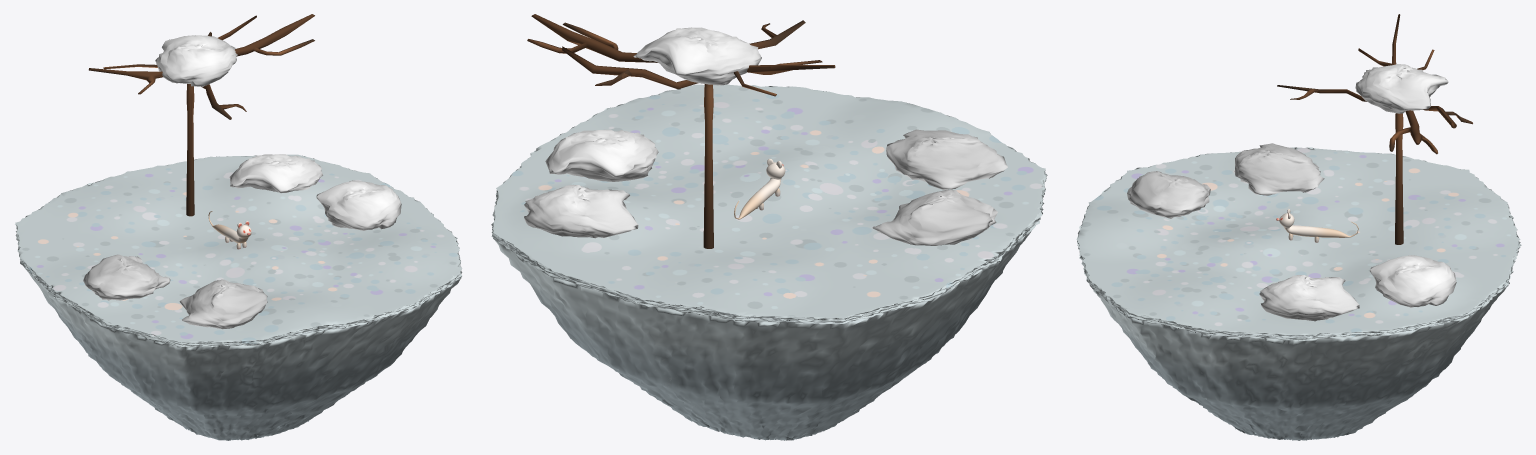
File: Small_Sky_Island_2.fbx
3 renders of one model, left to right at view 1: azimuth 30°, elevation 25°; view 2: azimuth 150°, elevation 25°; view 3: azimuth 270°, elevation 25°, orthographic. The views are drawn at different scales.
Parts seen in each view (by area): view 1: Cube, Sphere.001, Sphere, Cylinder.002, Sphere.002, Sphere.004, Sphere.003, Cylinder; view 2: Cube, Cylinder.002, Sphere.002, Sphere, Sphere.004, Sphere.001, Sphere.003, Cylinder; view 3: Cube, Sphere.003, Sphere.001, Sphere.004, Sphere, Sphere.002, Cylinder.002, Cylinder.
Boxes of the visible parts, <box> form: Cube: <box>15,154,462,440</box>; Sphere.001: <box>316,180,401,230</box>; Sphere: <box>155,35,237,86</box>; Cylinder.002: <box>88,14,314,216</box>; Sphere.002: <box>179,279,267,329</box>; Sphere.004: <box>229,154,322,193</box>; Sphere.003: <box>83,254,170,300</box>; Cylinder: <box>208,211,251,249</box>; Cube: <box>491,84,1047,440</box>; Cylinder.002: <box>527,14,835,248</box>; Sphere.002: <box>886,129,1007,189</box>; Sphere: <box>633,27,761,85</box>; Sphere.004: <box>524,184,638,238</box>; Sphere.001: <box>545,129,658,181</box>; Sphere.003: <box>872,189,997,245</box>; Cylinder: <box>734,158,785,219</box>; Cube: <box>1076,147,1521,440</box>; Sphere.003: <box>1233,143,1324,195</box>; Sphere.001: <box>1259,275,1359,321</box>; Sphere.004: <box>1370,255,1456,307</box>; Sphere: <box>1355,64,1448,113</box>; Sphere.002: <box>1127,171,1210,218</box>; Cylinder.002: <box>1277,14,1472,244</box>; Cylinder: <box>1276,209,1358,242</box>.
Size of the model in its own units: 173515 by 154886 by 173791.
Materials: 4 (4 with a texture image).
